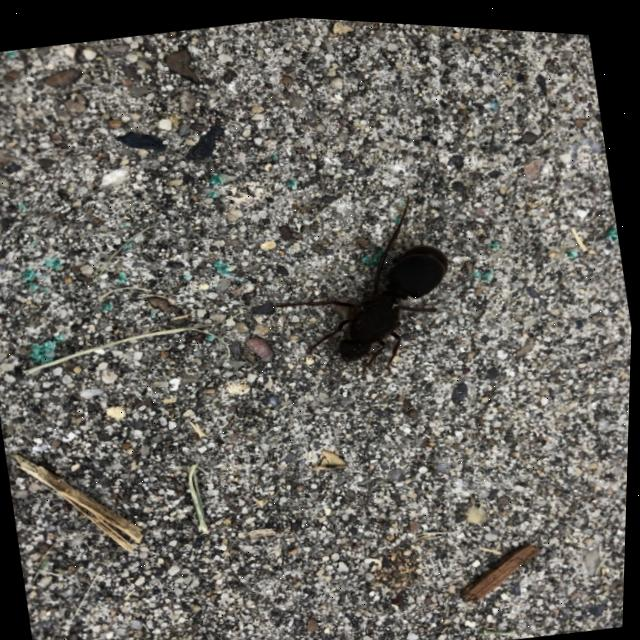Alive-Female-Dealate: (257, 177, 470, 392)
